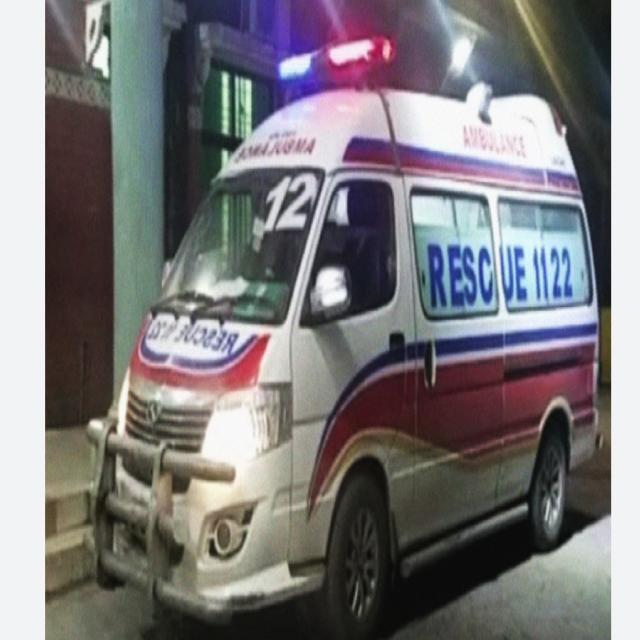ambulance: (107, 106, 622, 577)
